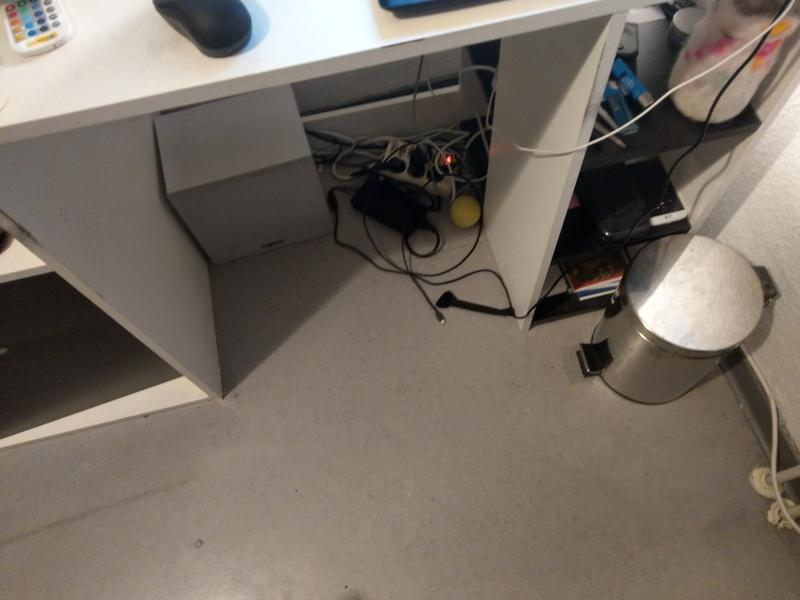Tennisball: (448, 194, 483, 231)
